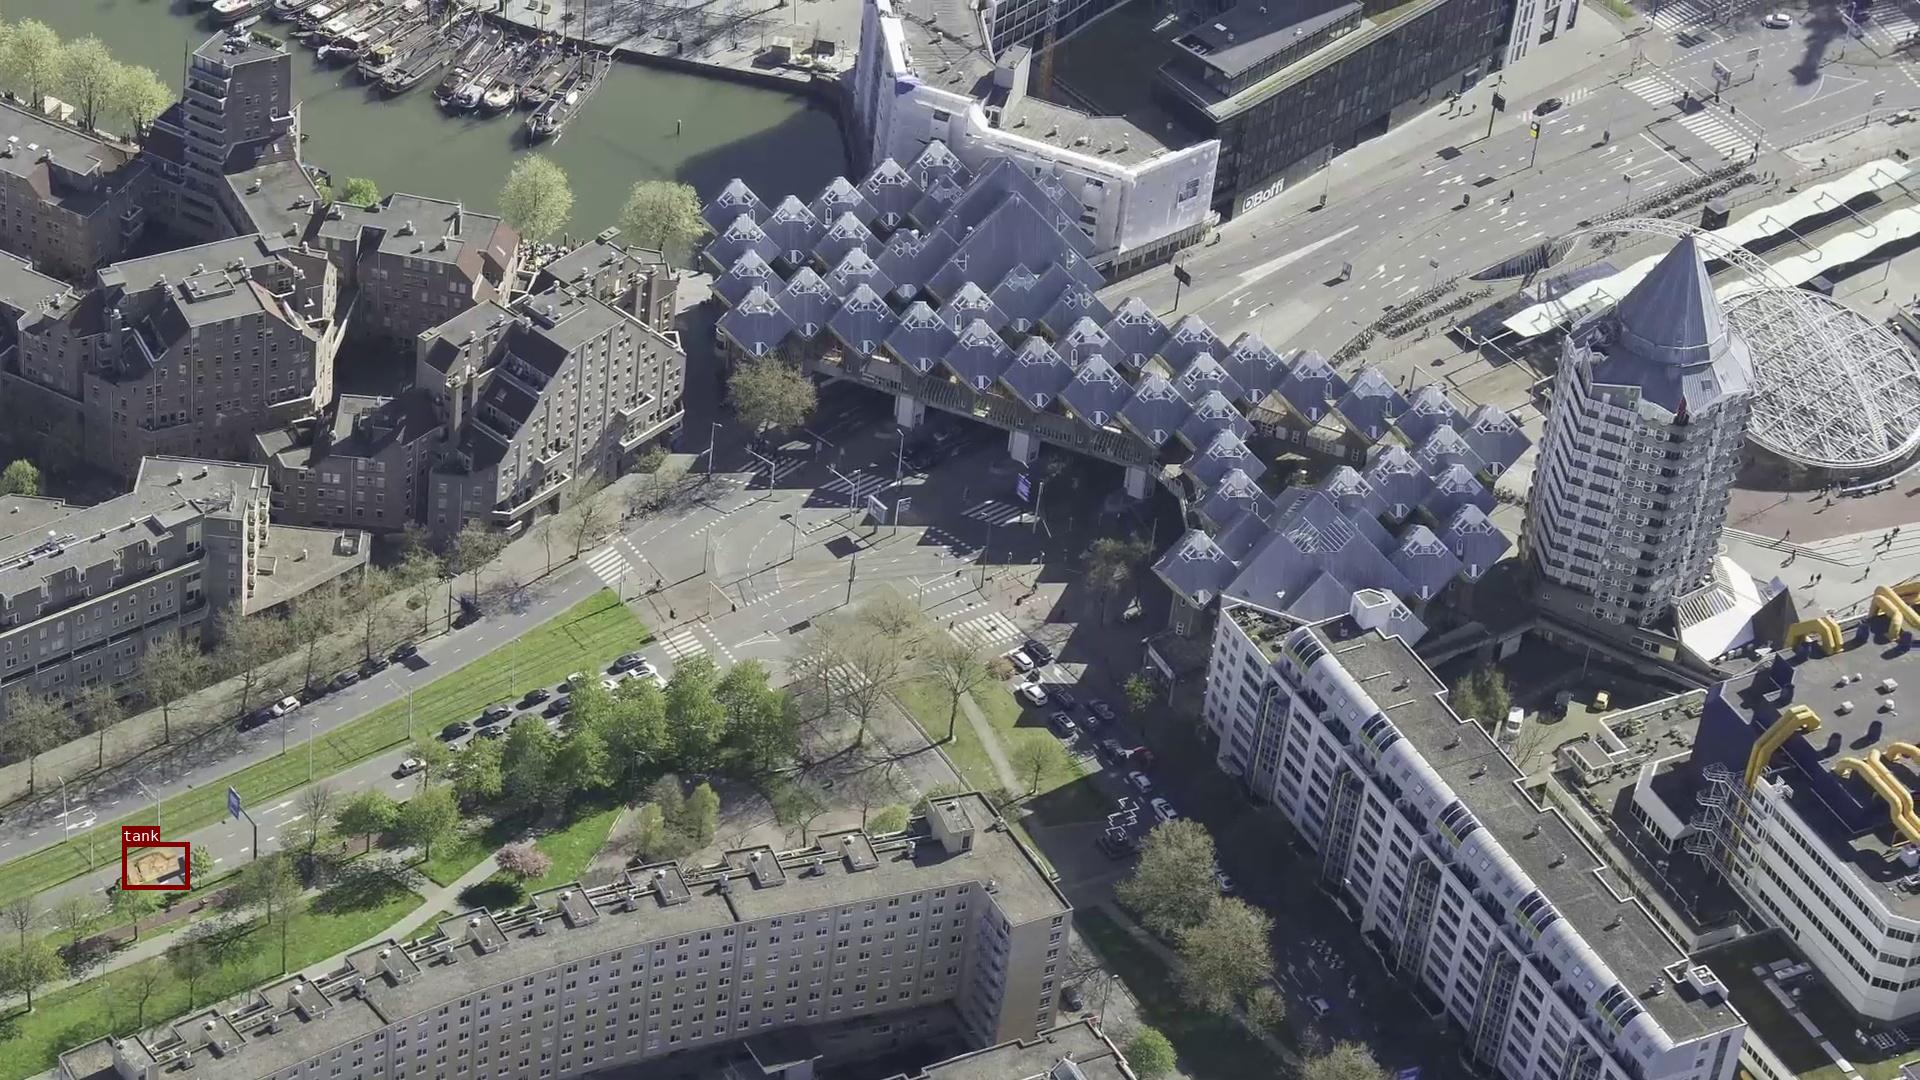tank: (123, 843, 189, 889)
